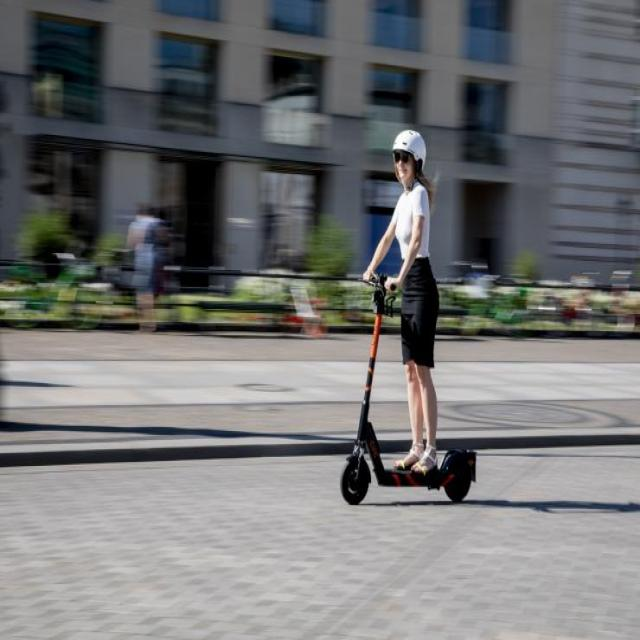helmet: (334, 124, 482, 508)
